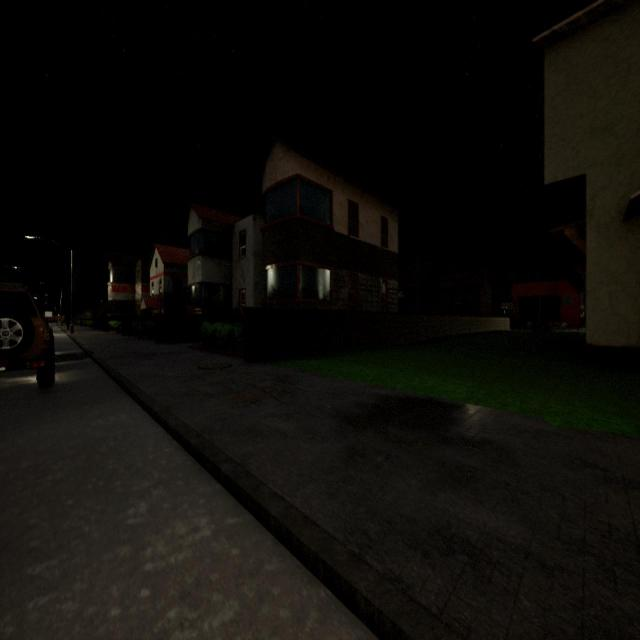Vehicle: (0, 283, 54, 389)
